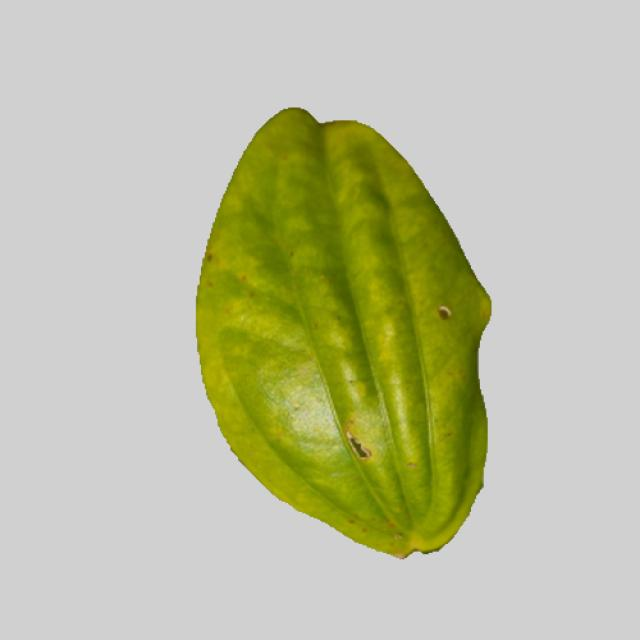yellow-mottle-virus: (182, 106, 499, 557)
